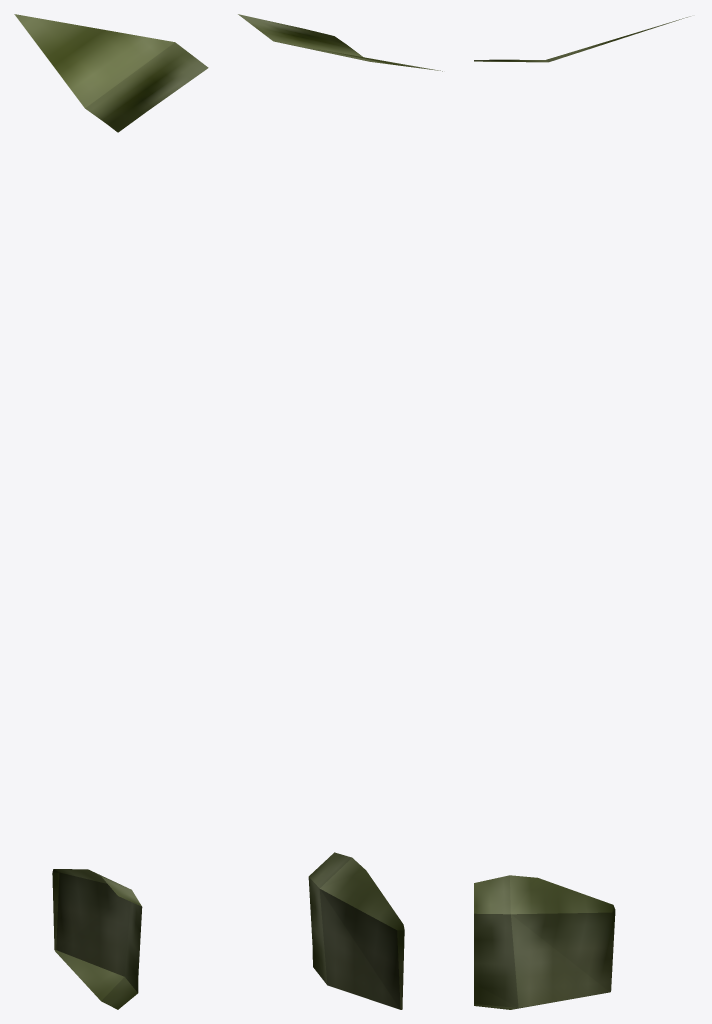
The picture shows the model from 3 angles, left to right: view 1: azimuth 30°, elevation 25°; view 2: azimuth 210°, elevation 25°; view 3: azimuth 270°, elevation 25°; orthographic projection. The views are drawn at different scales.
Bounding box in the file's own units: 0.0957 × 0.9193 × 0.1874.
1 material, 1 textured.
